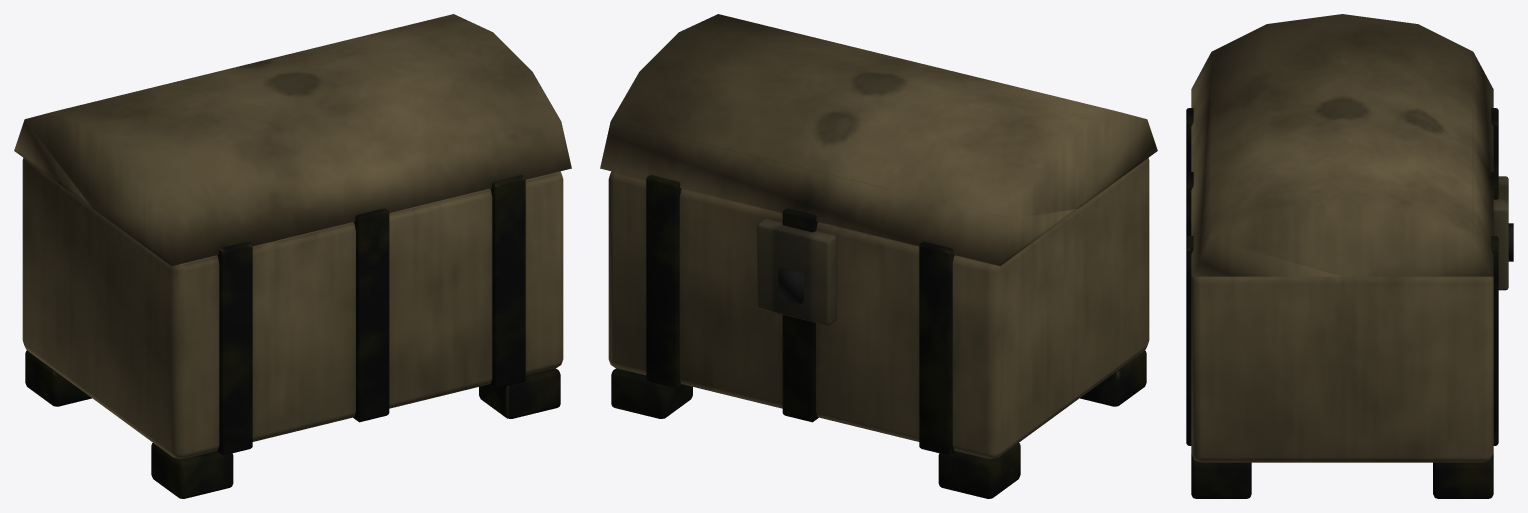
The model's file is mire_coffer.obj.
3 renders of one model, left to right at view 1: azimuth 30°, elevation 25°; view 2: azimuth 150°, elevation 25°; view 3: azimuth 270°, elevation 25°, orthographic. The views are drawn at different scales.
Visible parts, largest first — view 1: part0, part1; view 2: part0, part1, part2, part3; view 3: part0, part1, part2.
Part boxes in pixels (x1=…): part0: x1=14, y1=14, x2=571, y2=458; part1: x1=25, y1=175, x2=560, y2=498; part0: x1=600, y1=14, x2=1157, y2=458; part1: x1=611, y1=175, x2=1146, y2=498; part2: x1=757, y1=218, x2=836, y2=325; part3: x1=778, y1=268, x2=803, y2=303; part0: x1=1191, y1=14, x2=1493, y2=462; part1: x1=1186, y1=108, x2=1498, y2=498; part2: x1=1493, y1=176, x2=1508, y2=290.
Bounding box in the file's own units: 0.88 × 0.665 × 0.65.
